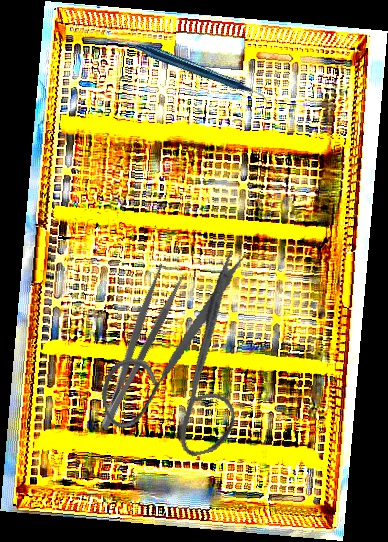Dressing Forceps: (83, 262, 188, 433)
Handpiece: (134, 2, 268, 147)
Iris Scissors: (74, 246, 288, 475)
